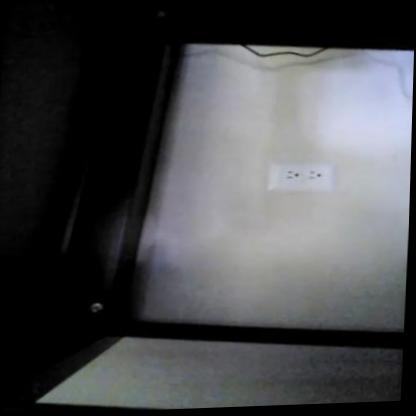OUTLET: (265, 158, 335, 193)
